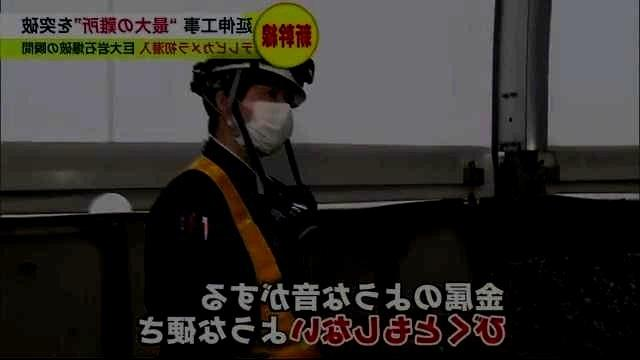helmet: (189, 55, 315, 157)
